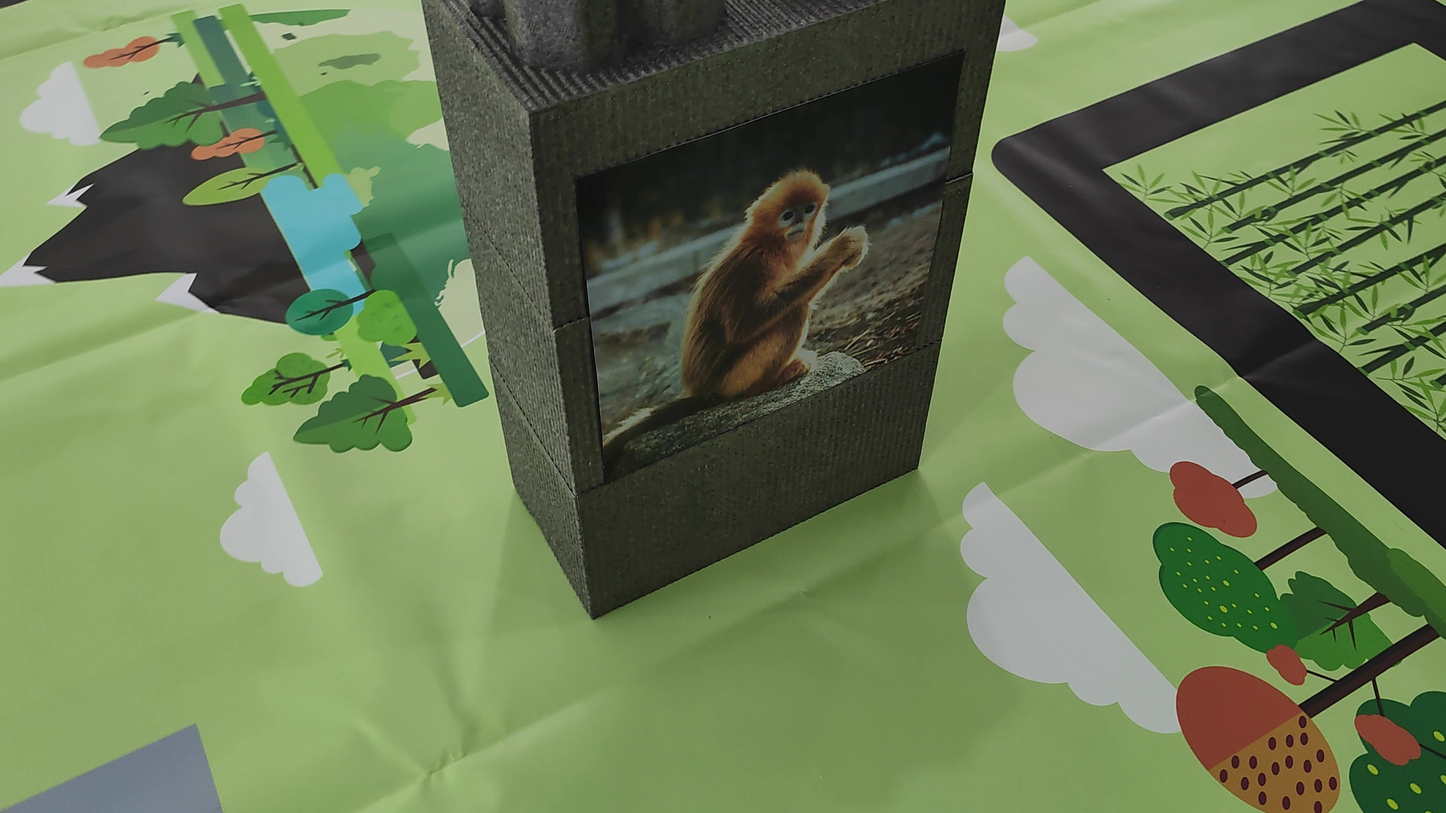monkey: (600, 146, 891, 455)
